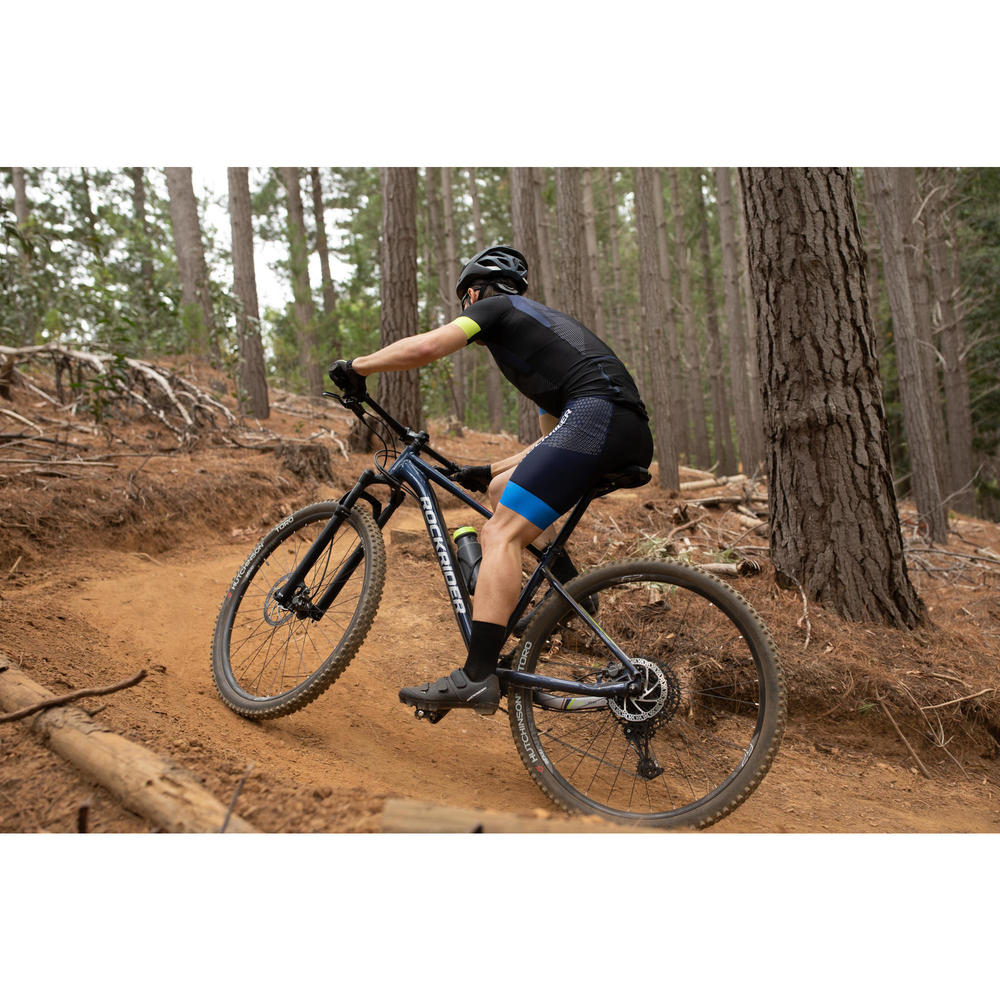MountainBike: (211, 376, 777, 816)
